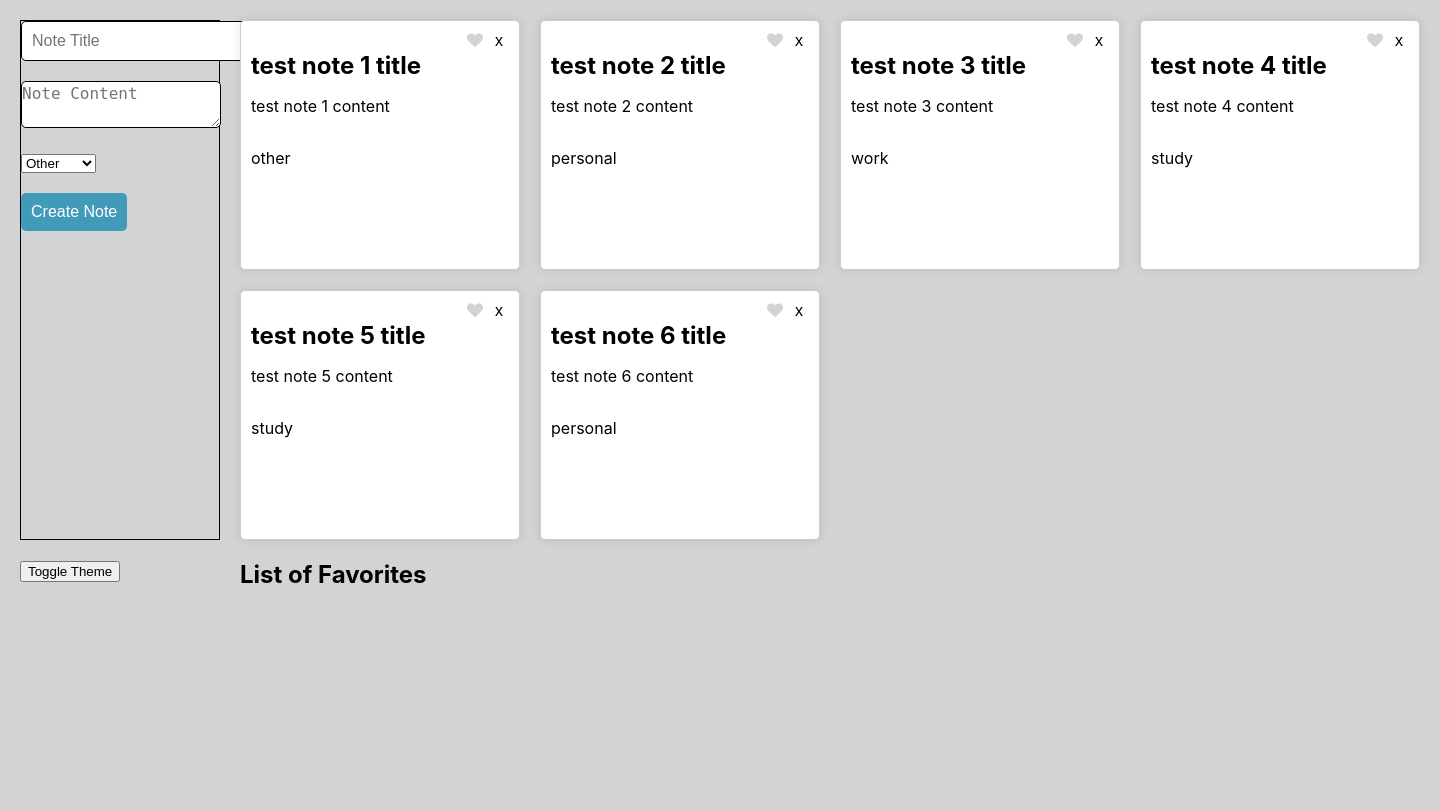
Scenario: Delete Note › Object Document Value Deleted
Click the button with test id "note-delbutton-2" at (799, 41), box top-left (789, 31), bottom-right (809, 51)
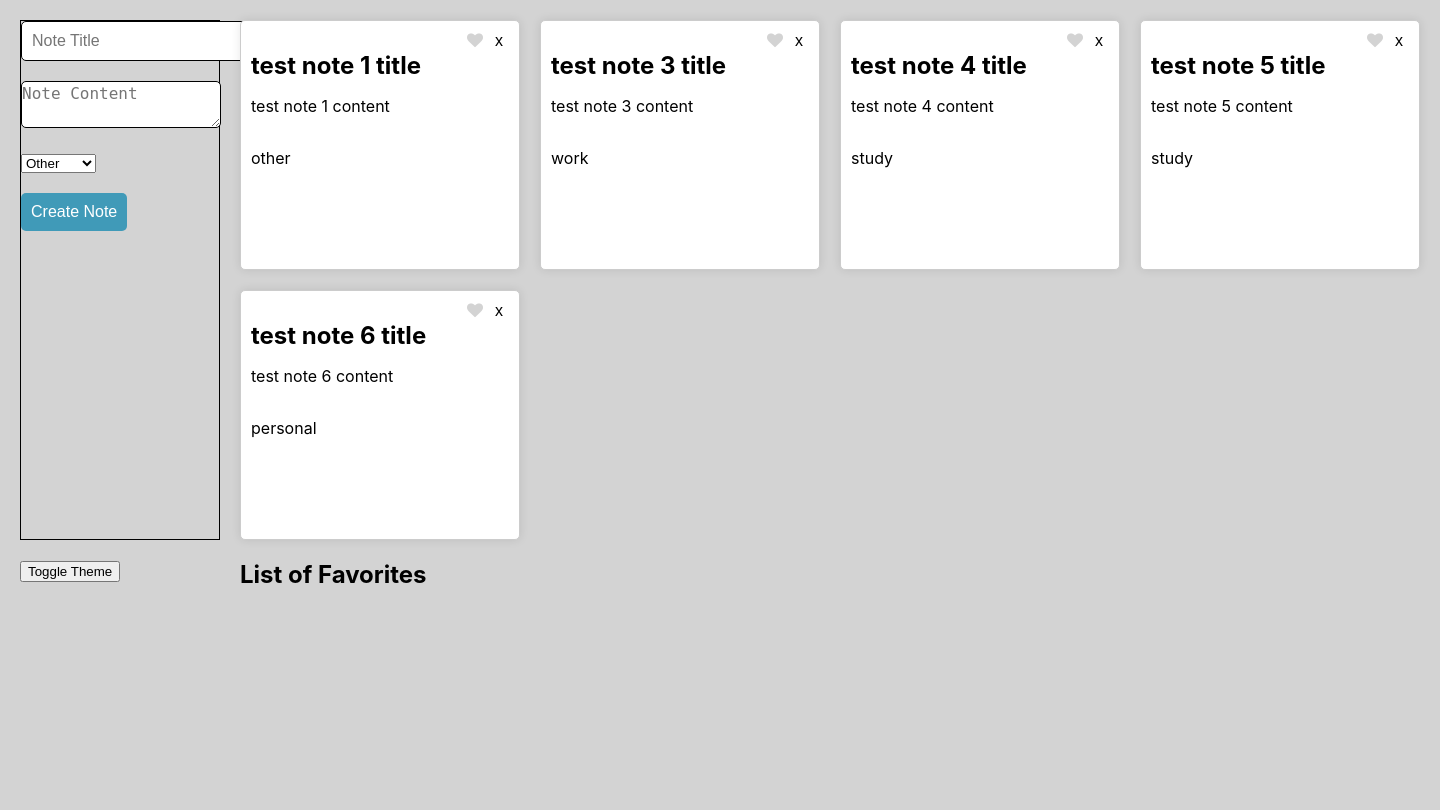
Check: the heading with test id "note-title-2" is gone
